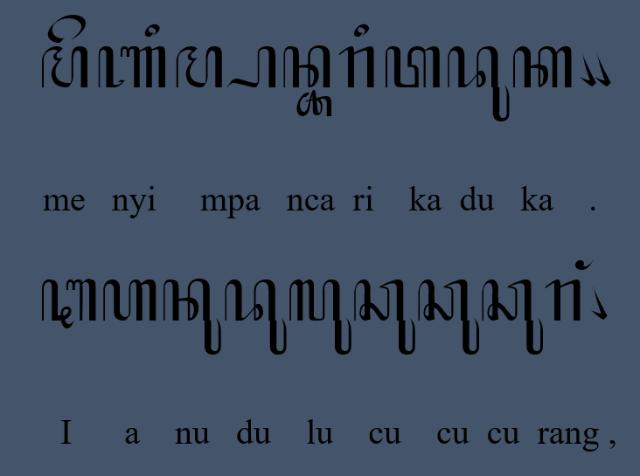I: (42, 278, 98, 330)
_c: (295, 90, 333, 118)
_p: (226, 44, 278, 90)
cu: (417, 278, 481, 356), (481, 278, 545, 356), (354, 279, 416, 357)
du: (446, 45, 510, 124), (224, 278, 286, 356)
e: (46, 14, 88, 44)
h: (102, 278, 158, 322)
i: (352, 22, 370, 38), (144, 23, 160, 39)
k: (512, 44, 572, 90)
kom: (578, 52, 596, 88), (594, 51, 612, 87), (590, 286, 608, 320)
lu: (288, 278, 352, 356)
m: (176, 44, 224, 90), (42, 44, 88, 88)
n: (280, 44, 332, 90)
ng: (574, 259, 594, 272)
nu: (162, 278, 222, 358)
ny1: (97, 45, 167, 89)
r: (338, 44, 376, 90), (546, 278, 582, 324)
t: (384, 44, 442, 88)
